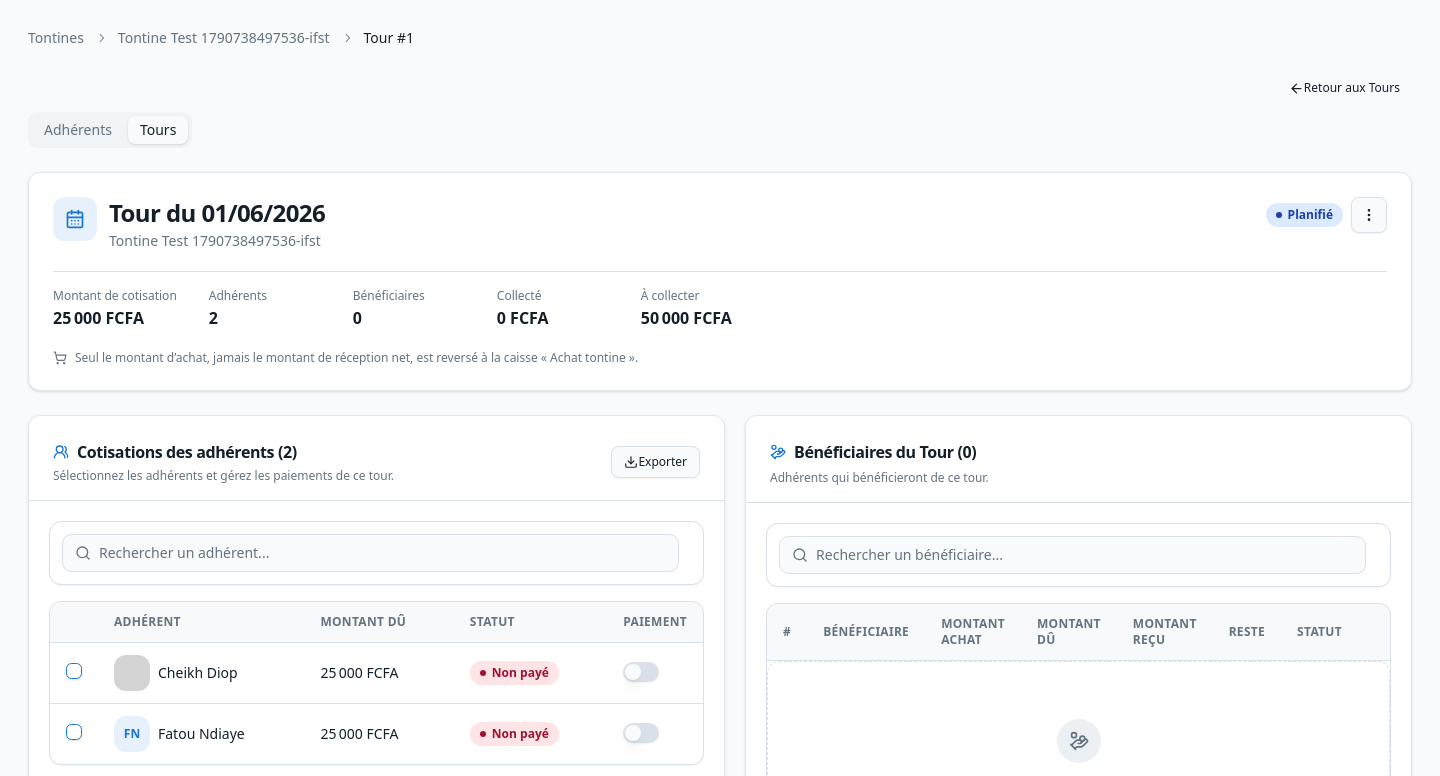
Test: Espace de travail du Tour — Cotisations (colonne gauche) › OFF : re-bascule un paiement déjà réglé vers « Non payé » sans jamais perdre la ligne d’adhérent
expect the text "Fatou Ndiaye" is shown: met, box x1=158 y1=724 x2=245 y2=743
What coordinates should you click on to do the following:
click the switch named "Marquer Fatou Ndiaye comme réglé"
I would click on:
 (641, 732)
Its box is x1=623 y1=722 x2=659 y2=742.
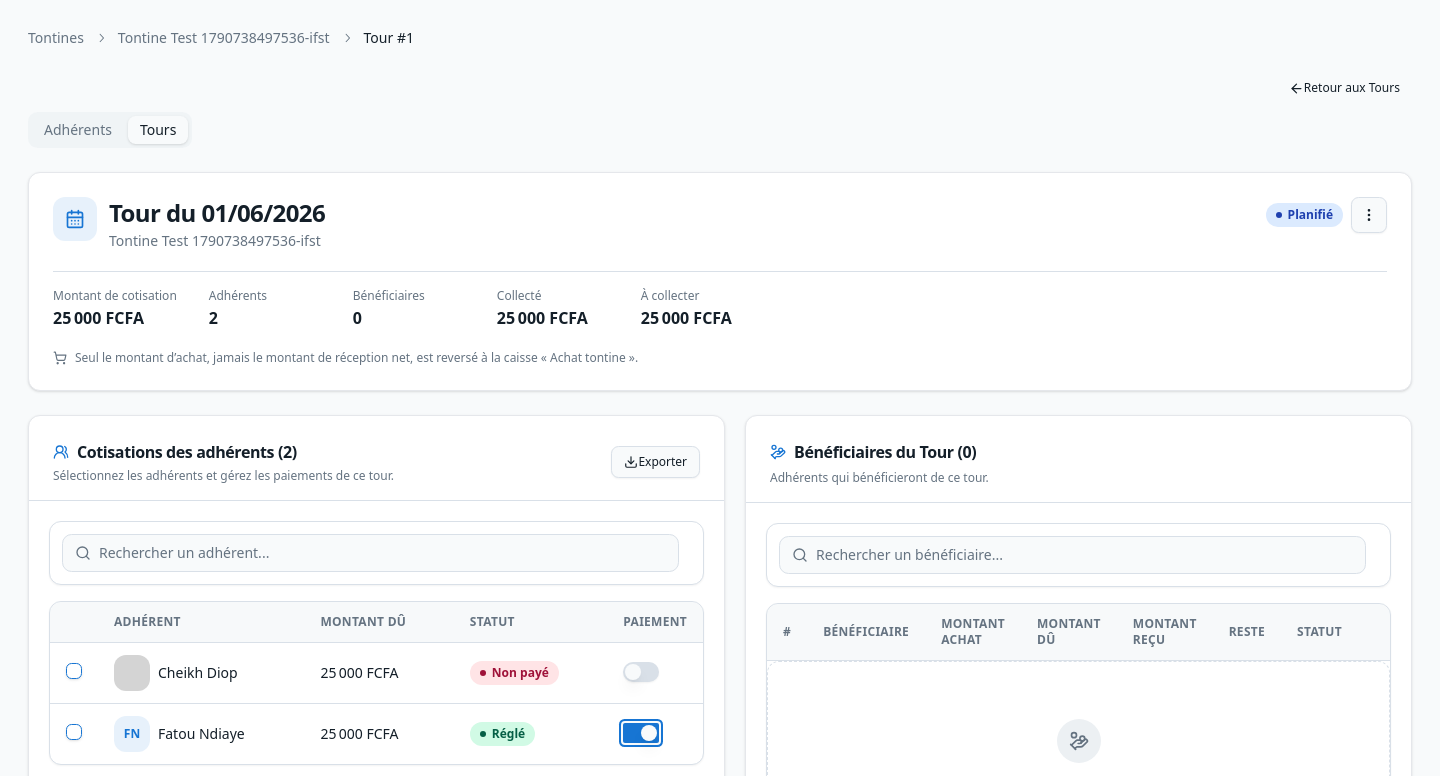
What coordinates should you click on to do the following:
click the switch named "Marquer Fatou Ndiaye comme non payé"
I would click on:
 (641, 732)
Its box is x1=623 y1=722 x2=659 y2=742.
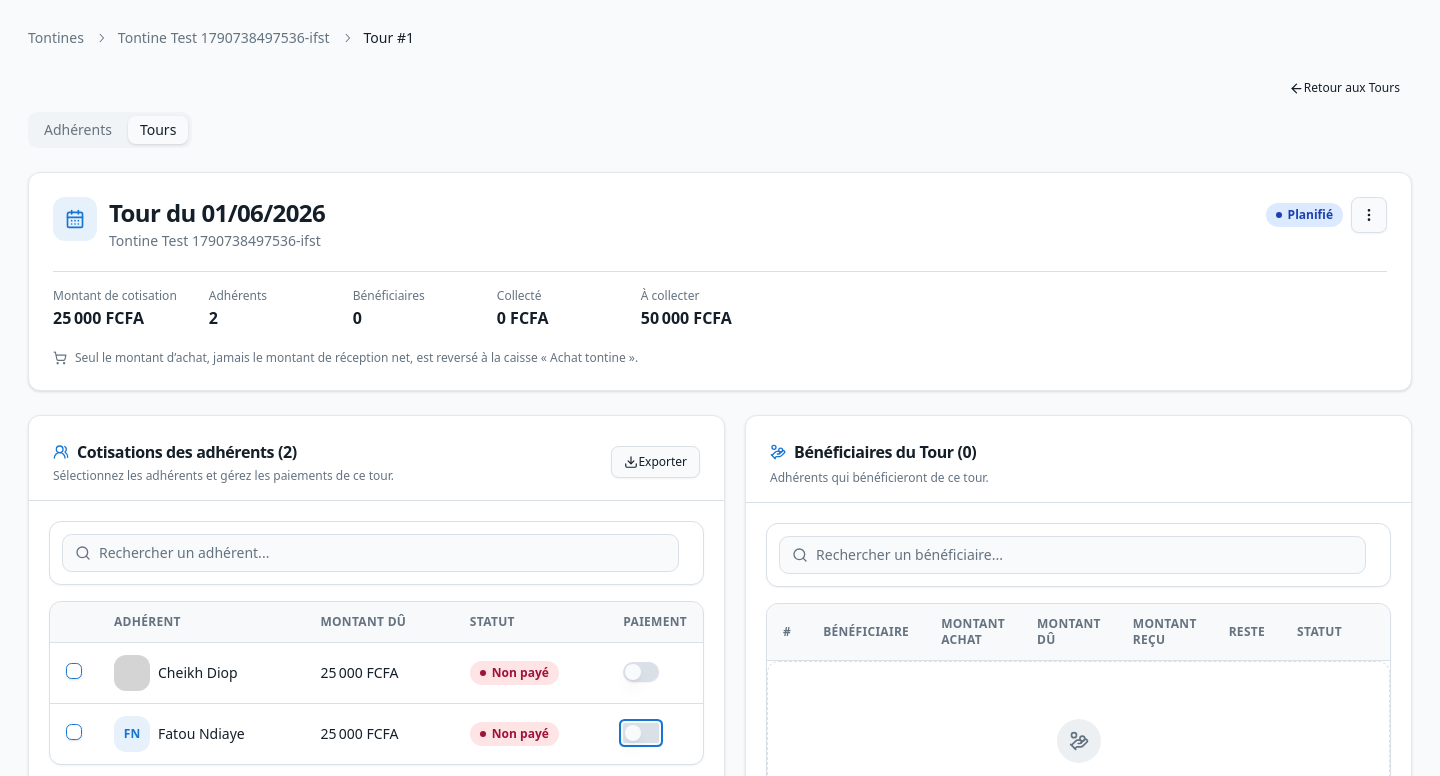
expect the text "Fatou Ndiaye" is shown: met, box x1=158 y1=724 x2=245 y2=743
expect the switch named "Marquer Fatou Ndiaye comme réglé" is shown: met, box x1=623 y1=722 x2=659 y2=742
